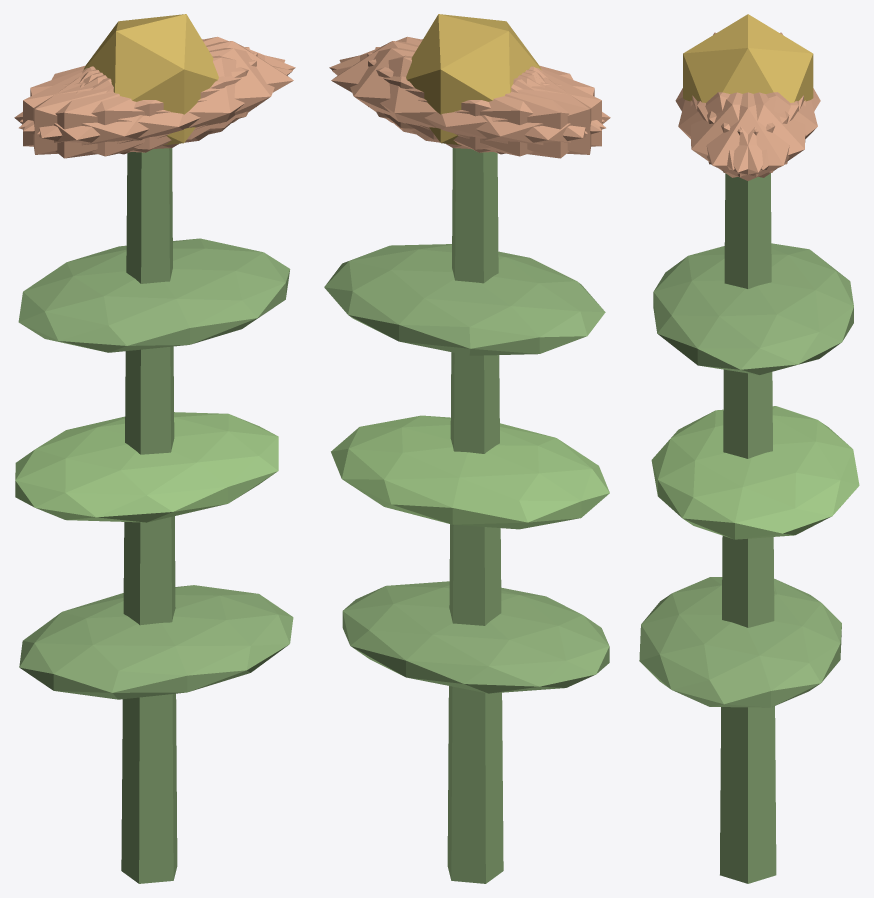
The model's file is solanum-americanum.glb.
3 renders of one model, left to right at view 1: azimuth 30°, elevation 25°; view 2: azimuth 150°, elevation 25°; view 3: azimuth 270°, elevation 25°, orthographic.
Parts seen in each view (by area): view 1: stem, leaf0, leaf2, leaf1, center, petal1, petal6, petal2, petal5, petal7, petal0, petal4 (+2 smaller); view 2: stem, leaf1, leaf2, leaf0, center, petal8, petal3, petal7, petal4, petal2, petal0, petal5 (+2 smaller); view 3: stem, leaf2, leaf1, leaf0, center, petal0, petal4, petal5, petal8, petal1.
Part boxes in pixels (box(x1,y1,x2,y2)): stem: box(121, 148, 177, 883); leaf0: box(19, 585, 293, 699); leaf2: box(18, 238, 290, 352); leaf1: box(15, 412, 278, 522); center: box(83, 14, 218, 145); petal1: box(19, 55, 292, 156); petal6: box(14, 68, 212, 158); petal2: box(33, 47, 249, 154); petal5: box(37, 48, 285, 149); petal7: box(23, 52, 257, 152); petal0: box(83, 41, 293, 139); petal4: box(20, 36, 295, 131); stem: box(447, 148, 503, 883); leaf1: box(331, 415, 609, 529); leaf2: box(324, 244, 605, 355); leaf0: box(342, 581, 609, 693); center: box(406, 14, 541, 145); petal8: box(332, 55, 605, 156); petal3: box(412, 68, 610, 158); petal7: box(375, 47, 591, 154); petal4: box(339, 48, 587, 149); petal2: box(367, 52, 601, 152); petal0: box(331, 41, 541, 139); petal5: box(329, 36, 604, 131); stem: box(720, 173, 776, 883); leaf2: box(653, 243, 853, 375); leaf1: box(651, 406, 859, 539); leaf0: box(639, 577, 841, 707); center: box(683, 14, 813, 102); petal0: box(692, 92, 803, 180); petal4: box(697, 92, 805, 177); petal5: box(690, 92, 798, 177); petal8: box(707, 92, 817, 170); petal1: box(678, 92, 789, 170).
Bounding box in the file's own units: 0.1452 × 0.4364 × 0.1036.
